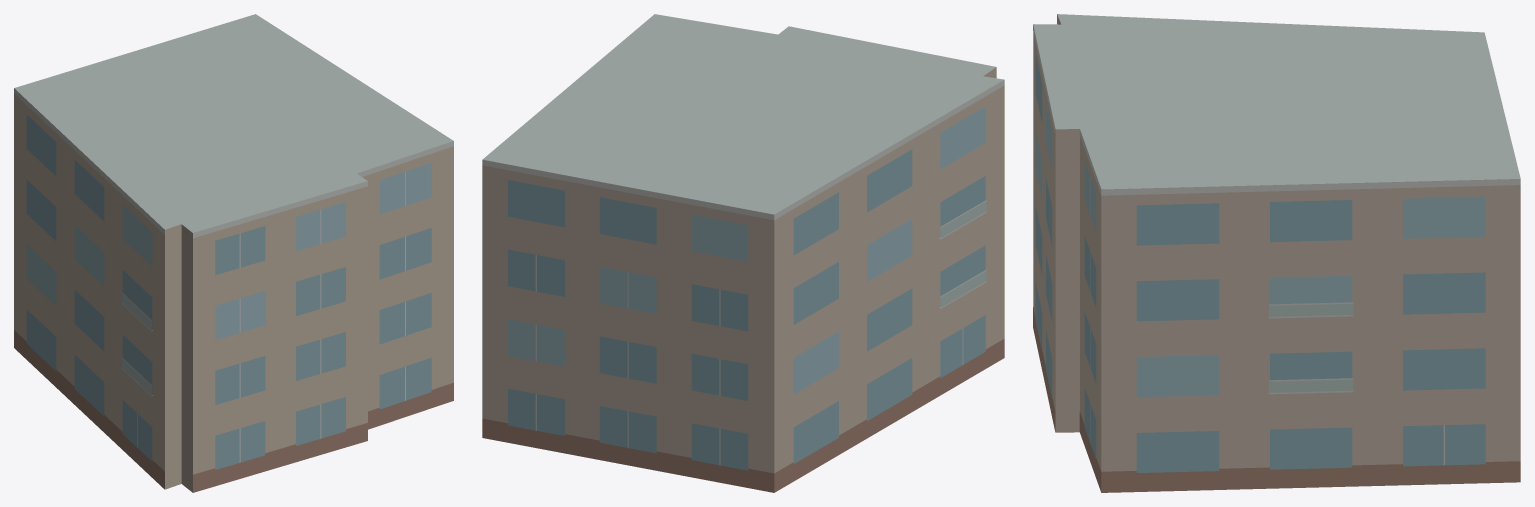
The model's file is survey-upis-32781168.glb.
The picture shows the model from 3 angles, left to right: view 1: azimuth 30°, elevation 25°; view 2: azimuth 150°, elevation 25°; view 3: azimuth 270°, elevation 25°; orthographic projection. The views are drawn at different scales.
Parts seen in each view (by area): view 1: survey-upis-32781168.tmp; view 2: survey-upis-32781168.tmp; view 3: survey-upis-32781168.tmp.
Boxes of the visible parts, x1,y1,x2,y2 form: survey-upis-32781168.tmp: [14, 14, 453, 492]; survey-upis-32781168.tmp: [482, 14, 1004, 492]; survey-upis-32781168.tmp: [1033, 14, 1520, 492].
Bounding box in the file's own units: 14.82 × 11.94 × 17.4.
